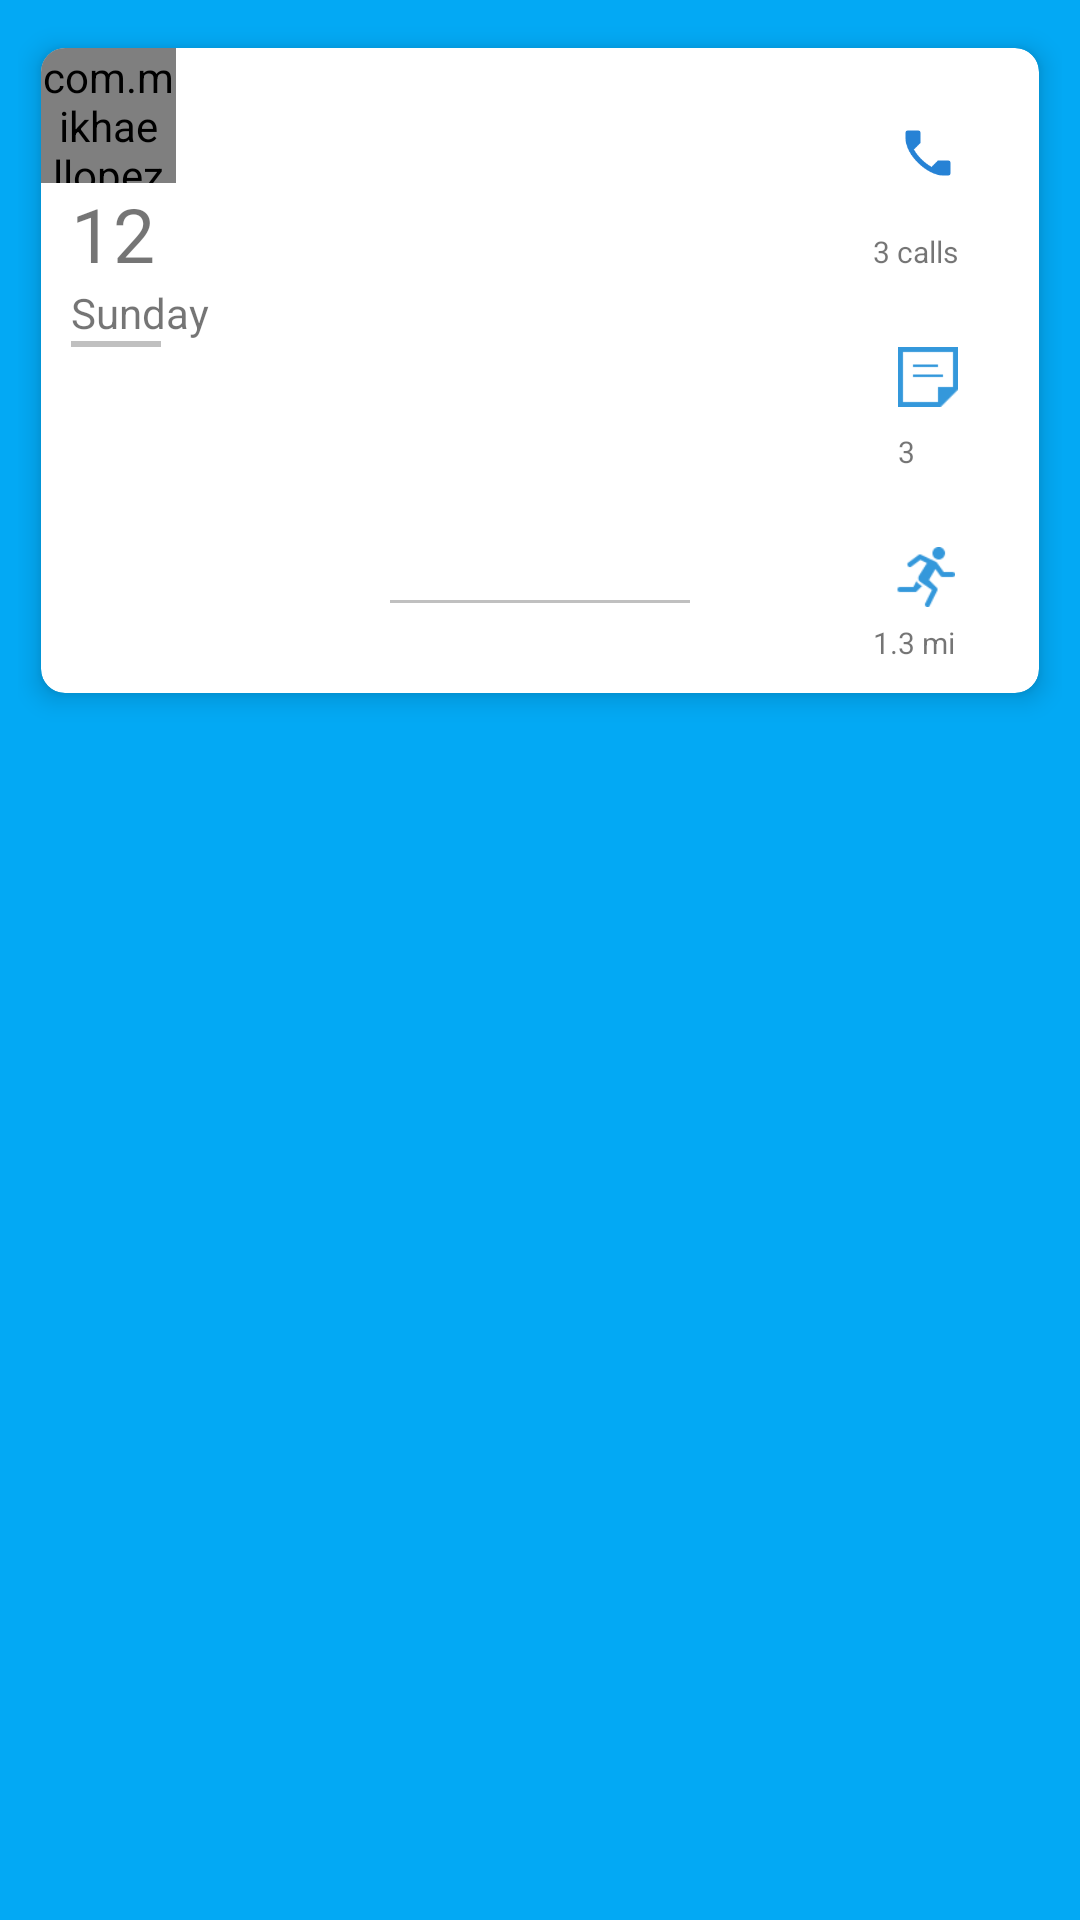

Icons on this 1080 × 1920 Android screen, each with its box as box(x1, y1, x2, y2):
note: box(898, 347, 958, 407)
run: box(897, 547, 955, 607)
